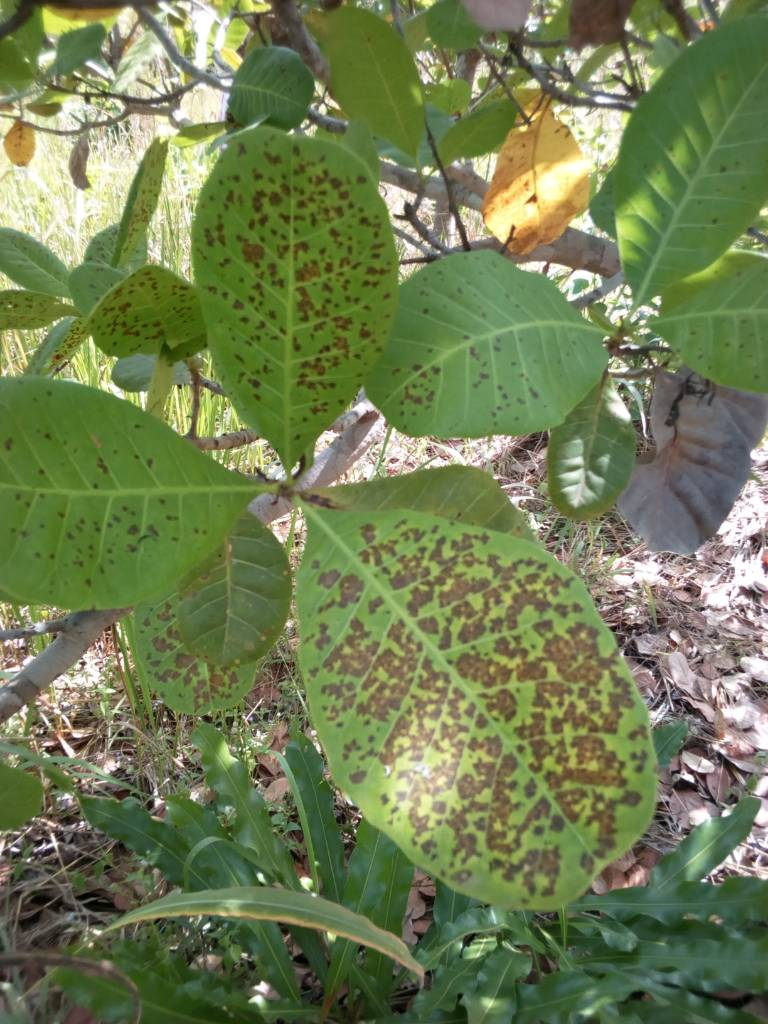Anthracnose: (302, 503, 658, 908), (186, 127, 408, 489), (1, 377, 258, 600), (352, 257, 613, 446), (82, 257, 197, 352)
